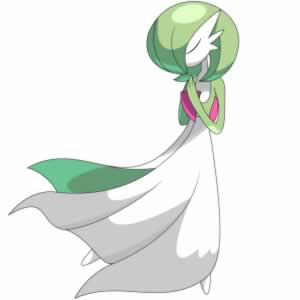gardevoir: (7, 1, 240, 297)
